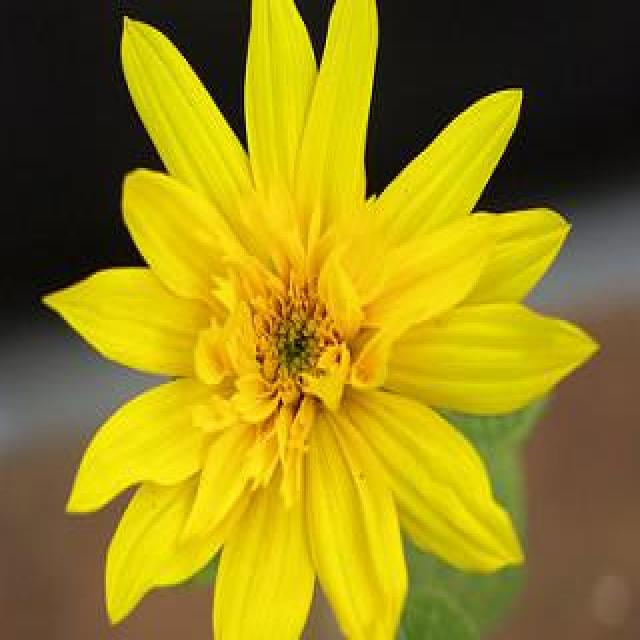sunflower: (41, 0, 595, 640)
